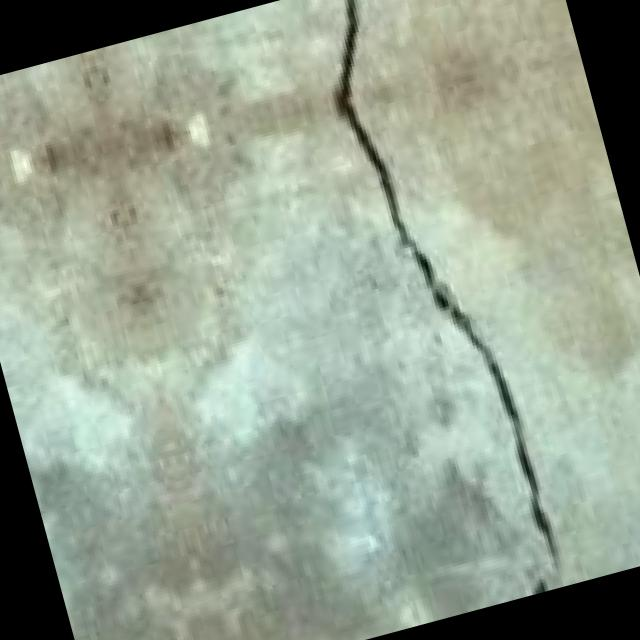crack: (234, 0, 622, 627)
